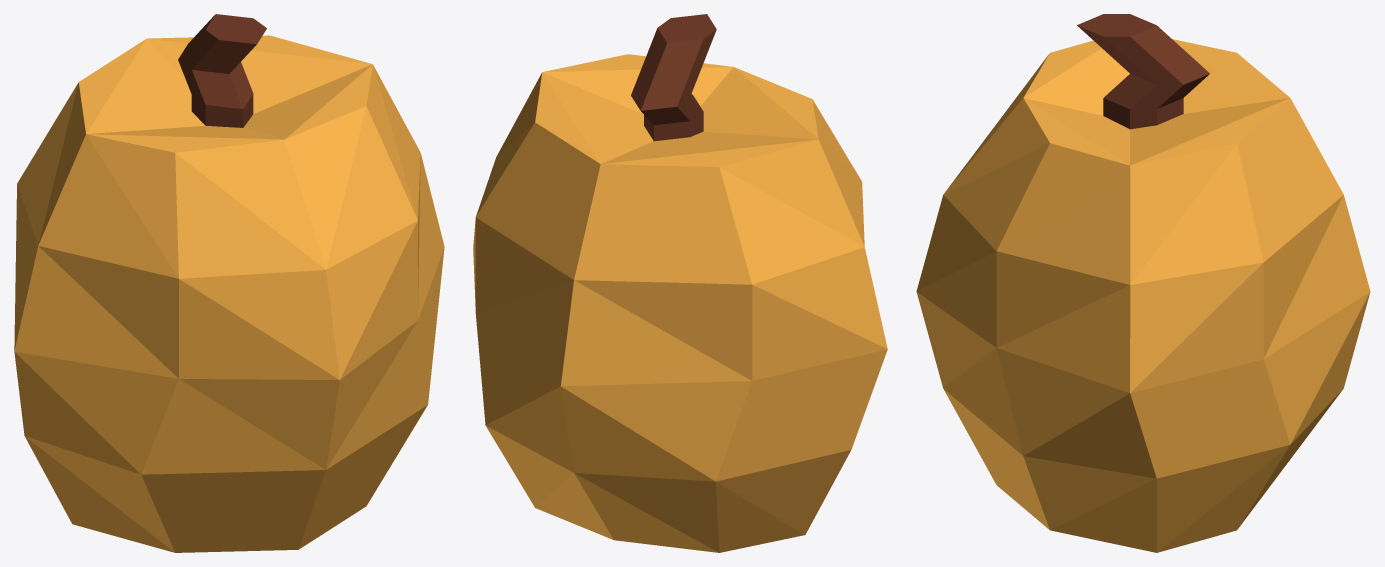
Rendered from Pumpkin.gltf.
3 views of the same model, side by side, from view 1: azimuth 30°, elevation 25°; view 2: azimuth 150°, elevation 25°; view 3: azimuth 270°, elevation 25° (orthographic). The views are drawn at different scales.
Size of the model in its own units: 1.12 by 1.19 by 1.06.
Materials: 1 (1 with a texture image).
